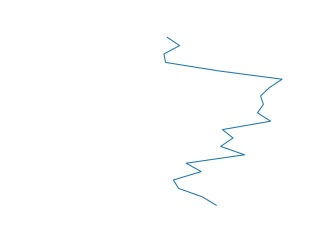floodPlain: (162, 36, 284, 207)
